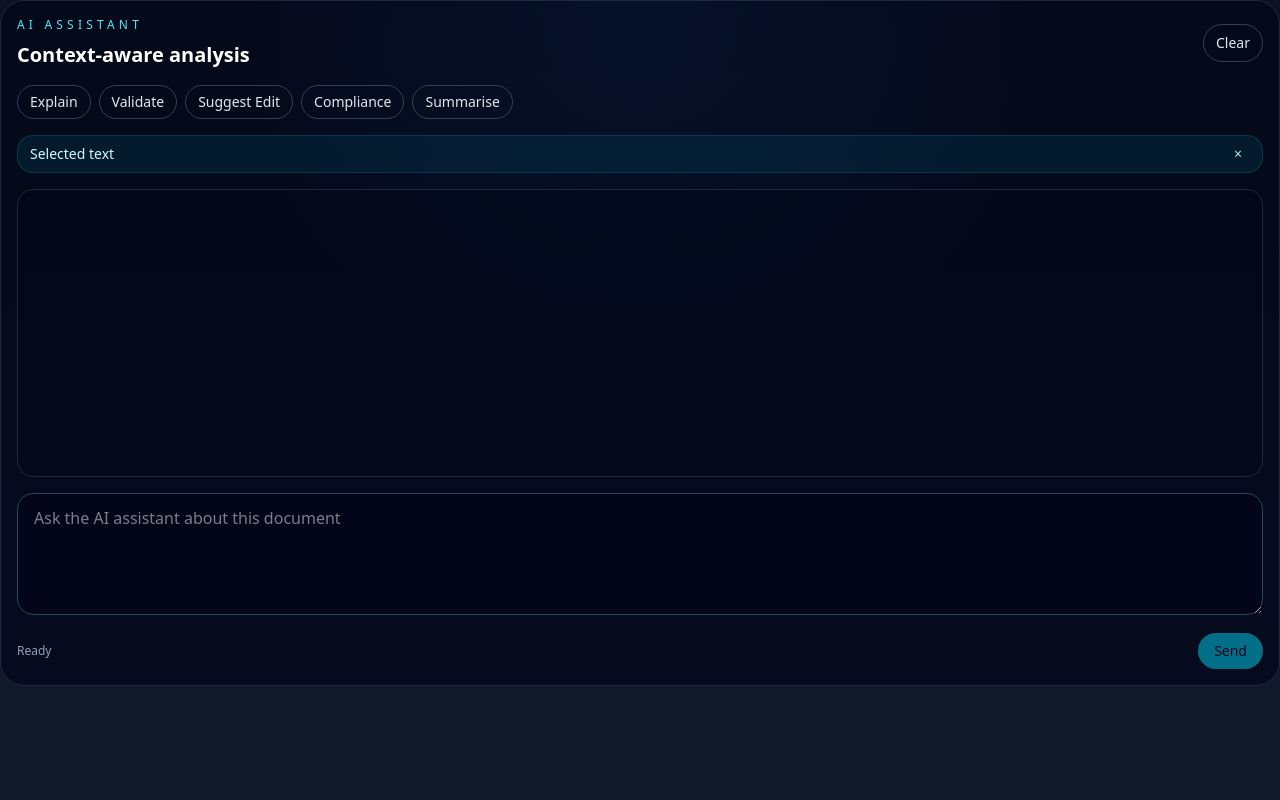
AiPanel streaming › quick action submits immediately when a selection is active
The image size is (1280, 800).
What coordinates should you click on to do the following:
click the button "Explain"
I would click on:
 (54, 102)
Its box is [17,85,90,119].
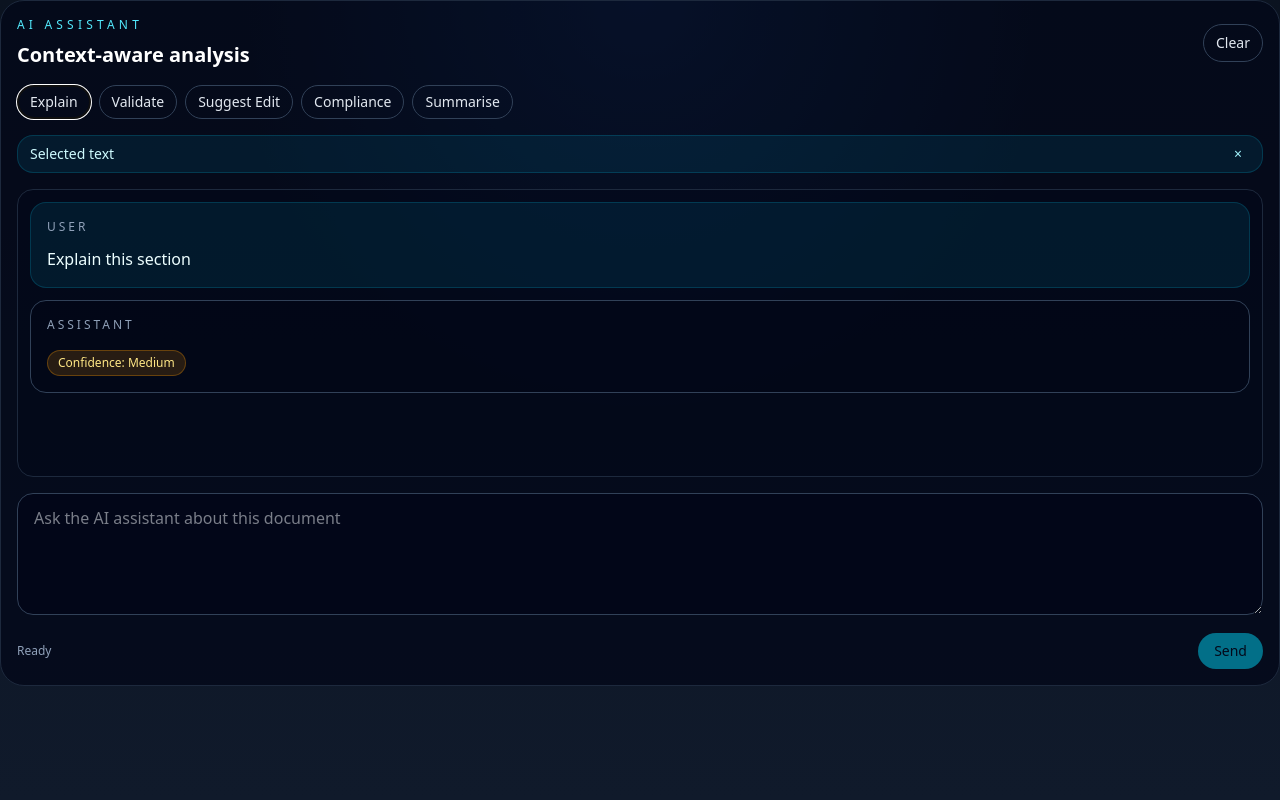
Expected: the text "Explain this section" is shown, [47,248,191,270]
